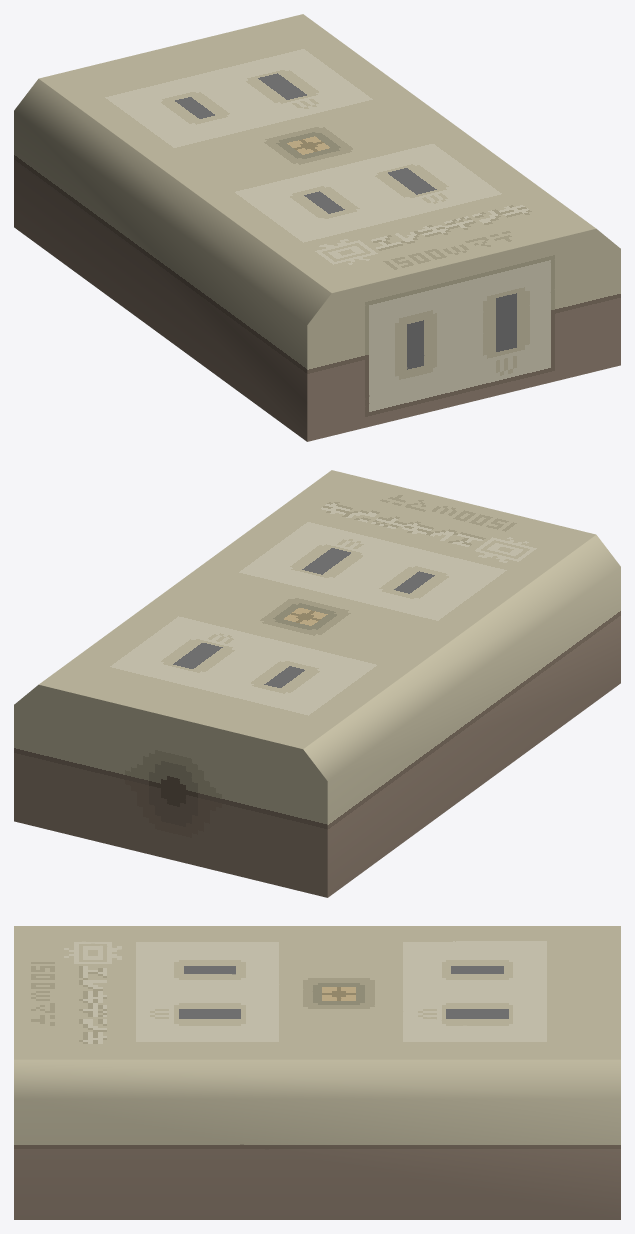
Rendered from 04b8_Power_Strip.glb.
3 views of the same model, one above another, from view 1: azimuth 30°, elevation 25°; view 2: azimuth 150°, elevation 25°; view 3: azimuth 270°, elevation 25° (orthographic). The views are drawn at different scales.
Parts seen in each view (by area): view 1: part_0; view 2: part_0; view 3: part_0.
Boxes of the visible parts, x1=… form: part_0: x1=14, y1=14, x2=620, y2=441; part_0: x1=14, y1=470, x2=620, y2=897; part_0: x1=14, y1=926, x2=620, y2=1219.
Bounding box in the file's own units: 0.0502 × 0.0219 × 0.0813.
Materials: 1 (1 with a texture image).
